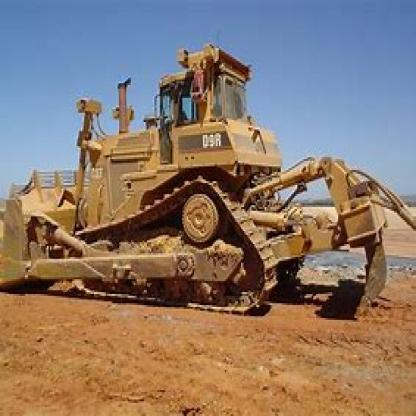bull_dozer/loader/grader: (7, 41, 396, 338)
